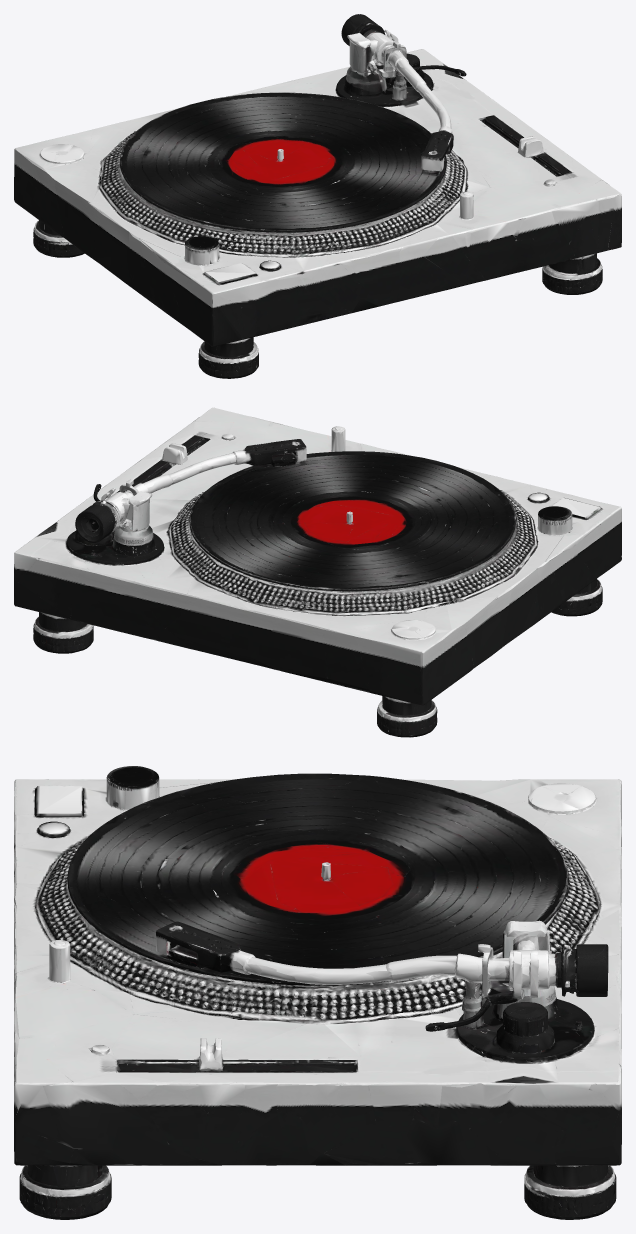
File: turntable.glb
3 renders of one model, top to bottom at view 1: azimuth 30°, elevation 25°; view 2: azimuth 150°, elevation 25°; view 3: azimuth 270°, elevation 25°, orthographic. The views are drawn at different scales.
Visible parts, largest first — view 1: Mesh_0; view 2: Mesh_0; view 3: Mesh_0.
Part boxes in pixels (x1,y1,x2,y2): Mesh_0: (14,14,621,378); Mesh_0: (14,407,621,737); Mesh_0: (14,766,621,1219).
Bounding box in the file's own units: 1 × 0.352 × 0.8409.
1 material, 1 textured.
